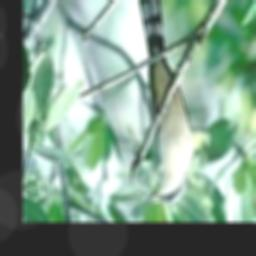Cuckoo: (136, 0, 193, 204)
